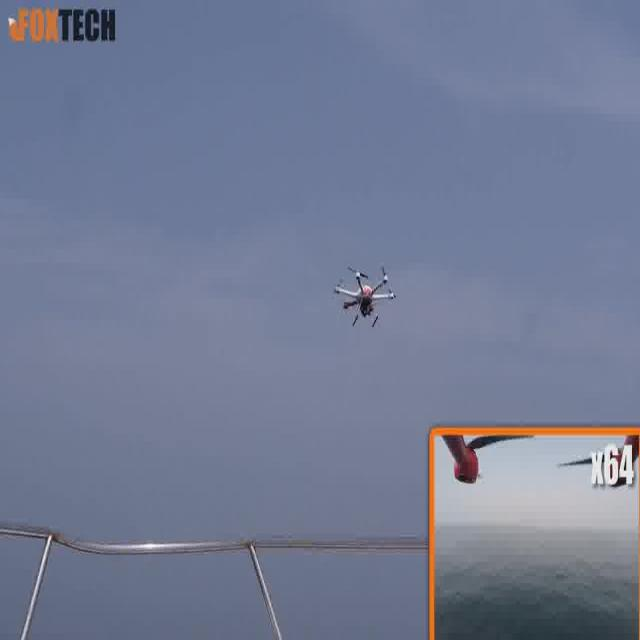drone: (329, 262, 397, 328)
